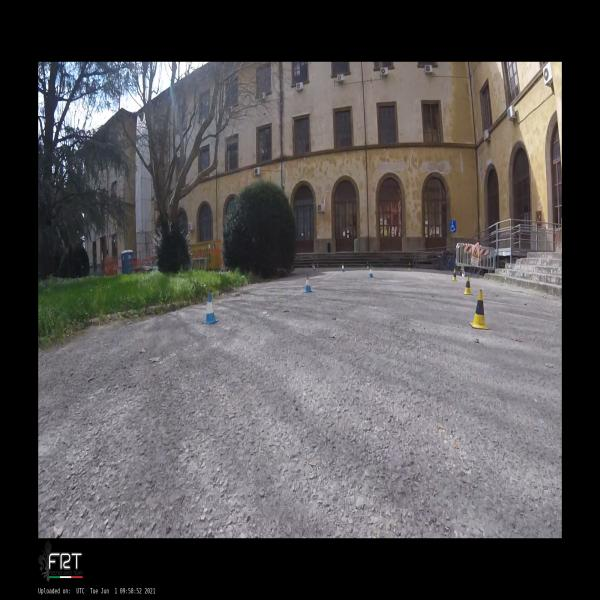blue_cone: (203, 293, 219, 323), (304, 274, 312, 292), (368, 266, 373, 278), (340, 263, 344, 272), (313, 265, 316, 270)
unknown_cone: (316, 262, 318, 268), (312, 263, 314, 268)
yellow_cone: (469, 290, 490, 329), (463, 276, 472, 294), (452, 268, 457, 281), (409, 262, 412, 271), (366, 262, 369, 268)
